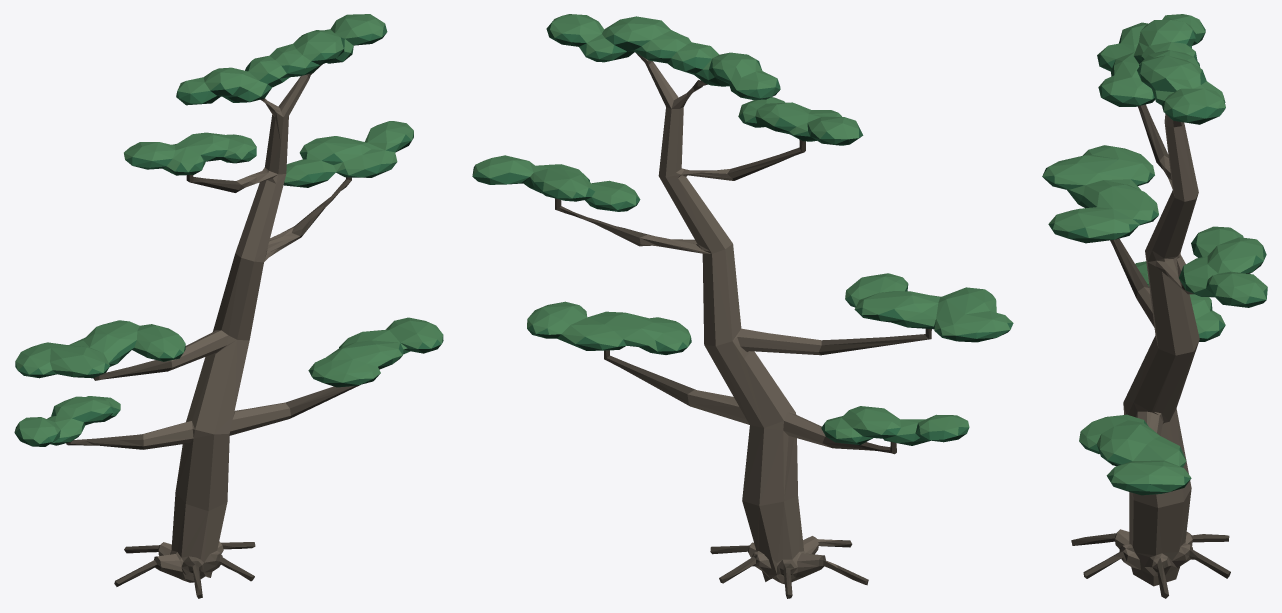
File: ancient-pine-1229-lod1.glb
3 views of the same model, side by side, from view 1: azimuth 30°, elevation 25°; view 2: azimuth 150°, elevation 25°; view 3: azimuth 270°, elevation 25° (orthographic). The views are drawn at different scales.
Parts seen in each view (by area): view 1: n12.005, n8.005, n11.005, n9.005, n10.005; view 2: n8.005, n12.005, n11.005, n9.005, n10.005; view 3: n12.005, n8.005, n11.005, n9.005, n10.005.
Part boxes in pixels (bbox=[...]): n12.005: bbox=[14, 14, 442, 443]; n8.005: bbox=[142, 75, 308, 584]; n11.005: bbox=[14, 24, 443, 446]; n9.005: bbox=[66, 64, 359, 598]; n10.005: bbox=[17, 33, 441, 446]; n8.005: bbox=[639, 59, 840, 584]; n12.005: bbox=[472, 14, 1012, 438]; n11.005: bbox=[472, 21, 1013, 442]; n9.005: bbox=[555, 52, 931, 598]; n10.005: bbox=[473, 37, 1009, 445]; n12.005: bbox=[1042, 14, 1267, 484]; n8.005: bbox=[1115, 114, 1199, 586]; n11.005: bbox=[1042, 21, 1267, 491]; n9.005: bbox=[1071, 104, 1230, 598]; n10.005: bbox=[1043, 34, 1266, 495].
Bounding box in the file's own units: 5.1 × 5.44 × 1.88.
